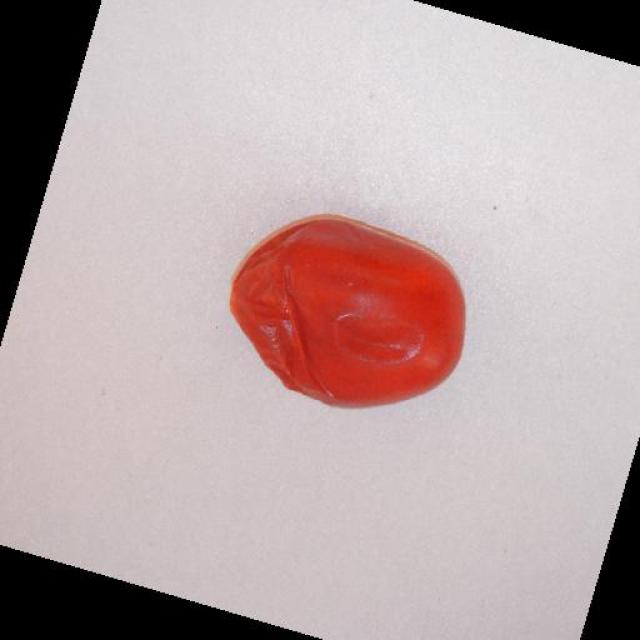Stale_tomato: (210, 204, 477, 433)
